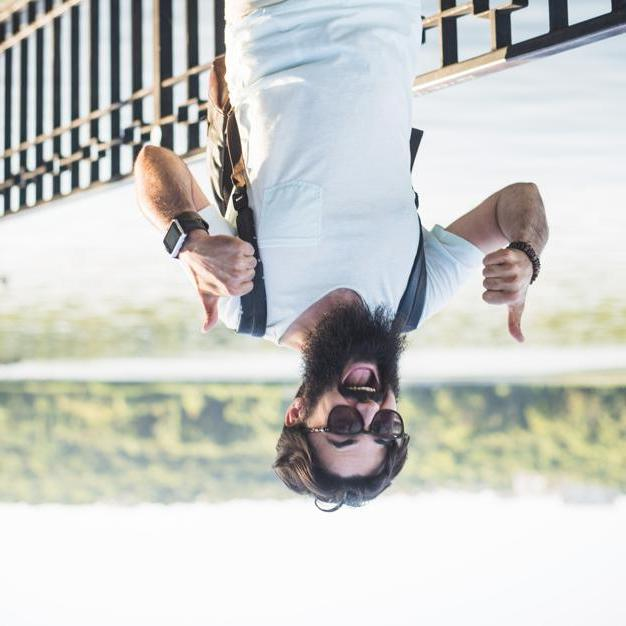thumbsdown: (202, 238, 257, 333), (482, 249, 525, 344)
